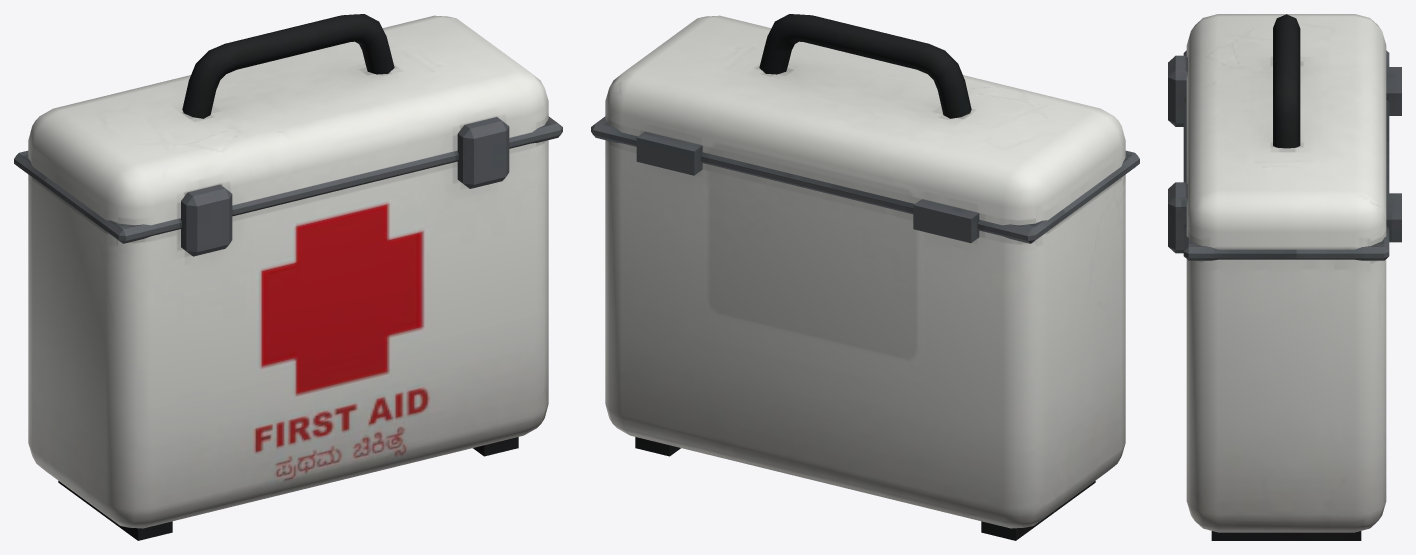
Rendered from medkit.glb.
3 renders of one model, left to right at view 1: azimuth 30°, elevation 25°; view 2: azimuth 150°, elevation 25°; view 3: azimuth 270°, elevation 25°, orthographic. The views are drawn at different scales.
Parts seen in each view (by area): view 1: medkit; view 2: medkit; view 3: medkit.
Boxes of the visible parts, box(x1,y1,x2,y2) form: medkit: box(14, 14, 562, 540); medkit: box(591, 14, 1139, 540); medkit: box(1168, 14, 1401, 540).
Bounding box in the file's own units: 0.385 × 0.361 × 0.1875.
1 material, 1 textured.
